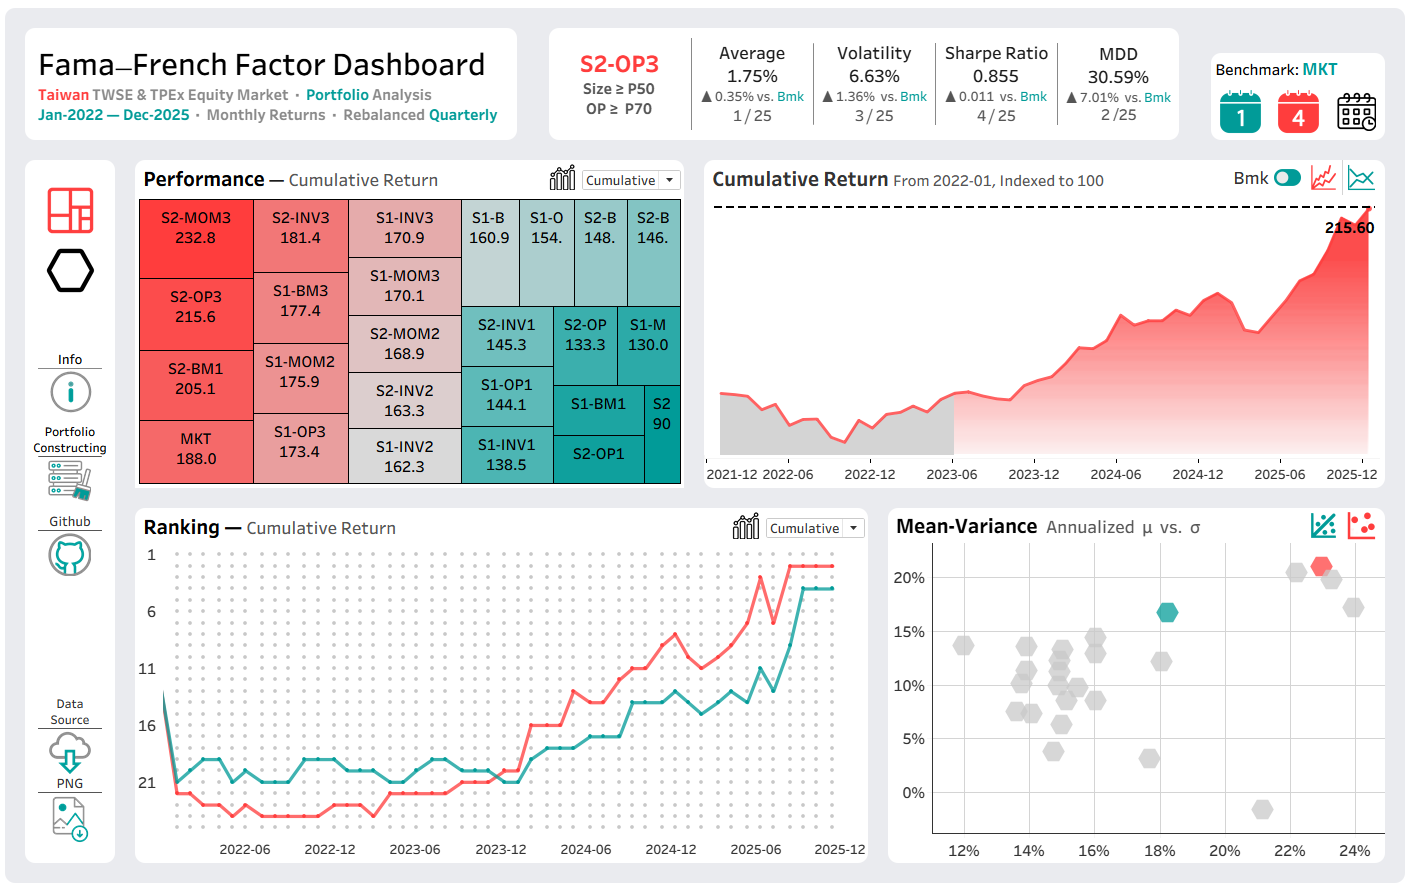

The dashboard page shown, as its layout file describes it:
{"tool":"tableau","page":{"name":"Dashboard-portfolio","canvas":[1400,875],"ordinal":1},"visuals":[{"type":"worksheet","title":"DB_title_port","mark":"Shape","cols":["line_type"],"box":[20,20,492,112]},{"type":"blank","box":[512,20,32,112]},{"type":"worksheet","title":"ptf| portfolio","mark":"Shape","box":[544,20,142,112]},{"type":"blank","box":[686,20,1,112]},{"type":"worksheet","title":"ptf| KPI-avg","mark":"Shape","rows":["portfolio"],"box":[687,20,121,112]},{"type":"blank","box":[808,20,1,112]},{"type":"worksheet","title":"ptf| KPI-vol","mark":"Shape","rows":["portfolio"],"box":[809,20,121,112]},{"type":"blank","box":[930,20,1,112]},{"type":"worksheet","title":"ptf| sharpe","mark":"Shape","rows":["portfolio"],"box":[931,20,121,112]},{"type":"blank","box":[1052,20,1,112]},{"type":"worksheet","title":"ptf| MDD","mark":"Shape","rows":["month_date"],"box":[1053,20,121,80]},{"type":"blank","box":[1174,20,32,112]},{"type":"blank","box":[1206,20,174,25]},{"type":"text","box":[1206,45,174,30]},{"type":"worksheet","title":"rebalance type","mark":"Shape","cols":["rebalance"],"box":[1206,75,117,57]},{"type":"dashboard-object","box":[1323,75,57,57]},{"type":"worksheet","title":"ptf| MDD rank","mark":"Shape","rows":["month_date"],"cols":["portfolio"],"box":[1053,100,121,32]},{"type":"text","box":[1167,133,107,25]},{"type":"text","box":[1274,133,107,25]},{"type":"blank","box":[20,152,90,20]},{"type":"text","box":[130,152,378,35]},{"type":"blank","box":[508,152,32,35]},{"type":"image","param":"Image/metrics.png","box":[540,152,34,35]},{"type":"parameter","param":"[Parameters].[pm| monthly or cumulative （複製）_3228739764789248]","box":[574,152,105,35]},{"type":"text","box":[699,152,355,35]},{"type":"text","box":[699,152,411,35]},{"type":"parameter","param":"[Parameters].[參數 1]","box":[1054,152,40,35]},{"type":"blank","box":[1110,152,115,35]},{"type":"text","box":[1225,152,40,35]},{"type":"worksheet","title":"gradien toggle","mark":"Shape","box":[1265,152,35,35]},{"type":"worksheet","title":"line type","mark":"Shape","cols":["line_type"],"box":[1300,152,80,35]},{"type":"parameter","param":"[Parameters].[參數 2]","box":[1167,158,107,25]},{"type":"parameter","param":"[Parameters].[pm| start date （複製）_1420029702696969]","box":[1274,158,107,25]},{"type":"image","param":"Image/treemap_red.png","box":[20,172,90,60]},{"type":"text","box":[1167,183,214,20]},{"type":"worksheet","title":"ptf| treemap_avg","mark":"Automatic","rows":["month_date"],"box":[130,187,549,293]},{"type":"worksheet","title":"tptf| reemap_cumu","mark":"Square","rows":["month_date"],"box":[130,187,549,293]},{"type":"worksheet","title":"ptf| rolling gradien","mark":"Line","cols":["ftr| pm-avg>=MKT  lod （複製）_2159192513167360"],"box":[699,187,681,260]},{"type":"worksheet","title":"ptf| cumu gradien","mark":"Line","box":[699,187,681,260]},{"type":"worksheet","title":"ptf| rolling_avg","mark":"Automatic","cols":["month_date"],"box":[699,187,681,293]},{"type":"worksheet","title":"prf|cumu_ret","mark":"Automatic","cols":["month_date"],"box":[699,187,681,293]},{"type":"parameter","param":"[Parameters].[pm| portfolio （複製）_0802671879385088]","box":[1167,203,214,25]},{"type":"dashboard-object","box":[20,232,90,60]},{"type":"text","box":[130,280,1250,260]},{"type":"blank","box":[20,292,90,50]},{"type":"text","box":[20,342,90,18]},{"type":"blank","box":[20,360,90,1]},{"type":"dashboard-object","box":[20,361,90,45]},{"type":"blank","box":[20,406,90,10]},{"type":"text","box":[20,416,90,32]},{"type":"worksheet","title":"date_axis","mark":"Polygon","cols":["month_date"],"box":[699,447,681,33]},{"type":"blank","box":[20,448,90,1]},{"type":"image","param":"Image/data-cleaning.png","box":[20,449,90,45]},{"type":"blank","box":[20,494,90,10]},{"type":"text","box":[130,500,441,35]},{"type":"blank","box":[571,500,152,35]},{"type":"image","param":"Image/metrics.png","box":[723,500,35,35]},{"type":"parameter","param":"[Parameters].[參數 9]","box":[758,500,105,35]},{"type":"worksheet","title":"ptf| dot title","mark":"Shape","box":[883,500,385,35]},{"type":"blank","box":[1268,500,32,35]},{"type":"worksheet","title":"ptf| dot type","mark":"Shape","cols":["dot_type"],"box":[1300,500,80,35]},{"type":"text","box":[20,504,90,18]},{"type":"blank","box":[20,522,90,1]},{"type":"image","param":"Image/github.png","box":[20,523,90,45]},{"type":"worksheet","title":"ptf| bump chart","mark":"Shape","rows":["ptf| ptf lod rank （複製）_2921970274308096"],"cols":["month_date"],"box":[130,535,733,320]},{"type":"worksheet","title":"ptf| M_V dot","mark":"Automatic","rows":["ptf| portfolio avg return （複製）_2056379085037574"],"cols":["ptf| portfolio ret avg （複製）_2056379085115399"],"box":[883,535,497,320]},{"type":"worksheet","title":"ptf| MKT&ptf_dot","mark":"Automatic","rows":["Calculation_1435714367660033"],"cols":["ptf| pm-pft ret （複製）_0609971591626753"],"box":[883,535,497,320]},{"type":"blank","box":[20,568,90,120]},{"type":"text","box":[20,688,90,32]},{"type":"blank","box":[20,720,90,1]},{"type":"image","param":"Image/arrow.png","box":[20,721,90,45]},{"type":"text","box":[20,766,90,18]},{"type":"blank","box":[20,784,90,1]},{"type":"dashboard-object","box":[20,785,90,50]},{"type":"blank","box":[20,835,90,20]}]}

Visuals, with their boxes in screenshot pixels (x1, y1, x2, y2), scaled from the page's 1400x875 canvas onto the 1412x887 screenshot:
"DB_title_port" worksheet (Shape marks): 20/20/516/134
blank: 516/20/549/134
"ptf| portfolio" worksheet (Shape marks): 549/20/692/134
blank: 692/20/693/134
"ptf| KPI-avg" worksheet (Shape marks): 693/20/815/134
blank: 815/20/816/134
"ptf| KPI-vol" worksheet (Shape marks): 816/20/938/134
blank: 938/20/939/134
"ptf| sharpe" worksheet (Shape marks): 939/20/1061/134
blank: 1061/20/1062/134
"ptf| MDD" worksheet (Shape marks): 1062/20/1184/101
blank: 1184/20/1216/134
blank: 1216/20/1392/46
text: 1216/46/1392/76
"rebalance type" worksheet (Shape marks): 1216/76/1334/134
dashboard-object: 1334/76/1392/134
"ptf| MDD rank" worksheet (Shape marks): 1062/101/1184/134
text: 1177/135/1285/160
text: 1285/135/1393/160
blank: 20/154/111/174
text: 131/154/512/190
blank: 512/154/545/190
image: 545/154/579/190
parameter: 579/154/685/190
text: 705/154/1063/190
text: 705/154/1120/190
parameter: 1063/154/1103/190
blank: 1120/154/1236/190
text: 1236/154/1276/190
"gradien toggle" worksheet (Shape marks): 1276/154/1311/190
"line type" worksheet (Shape marks): 1311/154/1392/190
parameter: 1177/160/1285/186
parameter: 1285/160/1393/186
image: 20/174/111/235
text: 1177/186/1393/206
"ptf| treemap_avg" worksheet: 131/190/685/487
"tptf| reemap_cumu" worksheet (Square marks): 131/190/685/487
"ptf| rolling gradien" worksheet (Line marks): 705/190/1392/453
"ptf| cumu gradien" worksheet (Line marks): 705/190/1392/453
"ptf| rolling_avg" worksheet: 705/190/1392/487
"prf|cumu_ret" worksheet: 705/190/1392/487
parameter: 1177/206/1393/231
dashboard-object: 20/235/111/296
text: 131/284/1392/547
blank: 20/296/111/347
text: 20/347/111/365
blank: 20/365/111/366
dashboard-object: 20/366/111/412
blank: 20/412/111/422
text: 20/422/111/454
"date_axis" worksheet (Polygon marks): 705/453/1392/487
blank: 20/454/111/455
image: 20/455/111/501
blank: 20/501/111/511
text: 131/507/576/542
blank: 576/507/729/542
image: 729/507/764/542
parameter: 764/507/870/542
"ptf| dot title" worksheet (Shape marks): 891/507/1279/542
blank: 1279/507/1311/542
"ptf| dot type" worksheet (Shape marks): 1311/507/1392/542
text: 20/511/111/529
blank: 20/529/111/530
image: 20/530/111/576
"ptf| bump chart" worksheet (Shape marks): 131/542/870/867
"ptf| M_V dot" worksheet: 891/542/1392/867
"ptf| MKT&ptf_dot" worksheet: 891/542/1392/867
blank: 20/576/111/697
text: 20/697/111/730
blank: 20/730/111/731
image: 20/731/111/777
text: 20/777/111/795
blank: 20/795/111/796
dashboard-object: 20/796/111/846
blank: 20/846/111/867
